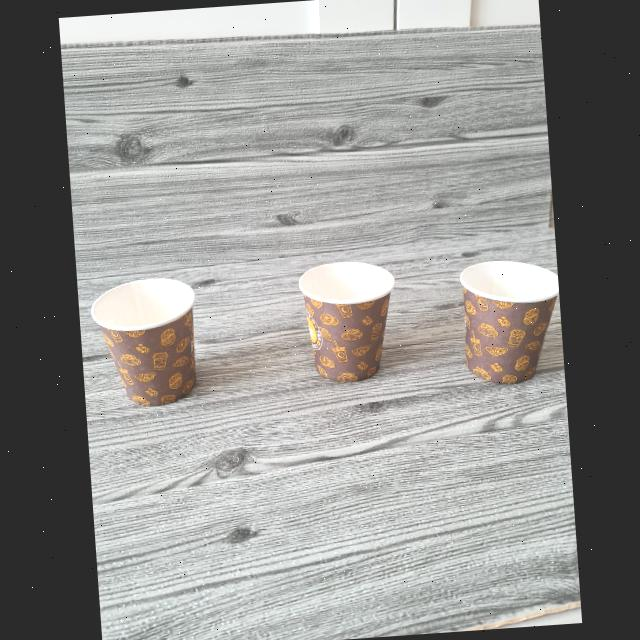trash: (86, 272, 222, 411), (450, 260, 564, 388), (302, 258, 398, 380)
